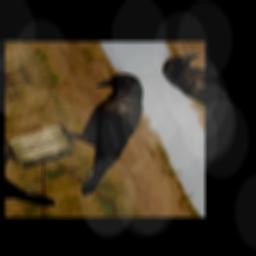Crow: (31, 69, 186, 199)
